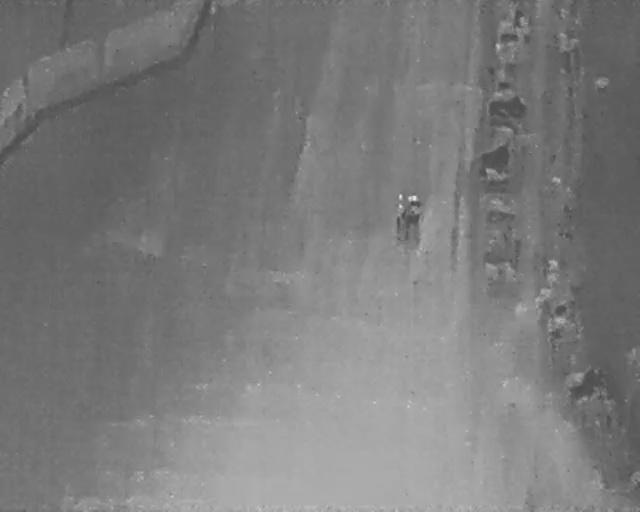Bicycle: (563, 366, 610, 408), (471, 141, 517, 178), (486, 95, 528, 119), (484, 207, 517, 227), (493, 28, 530, 45), (509, 10, 531, 30), (490, 78, 512, 92)
OtherVehicle: (388, 192, 426, 251)
